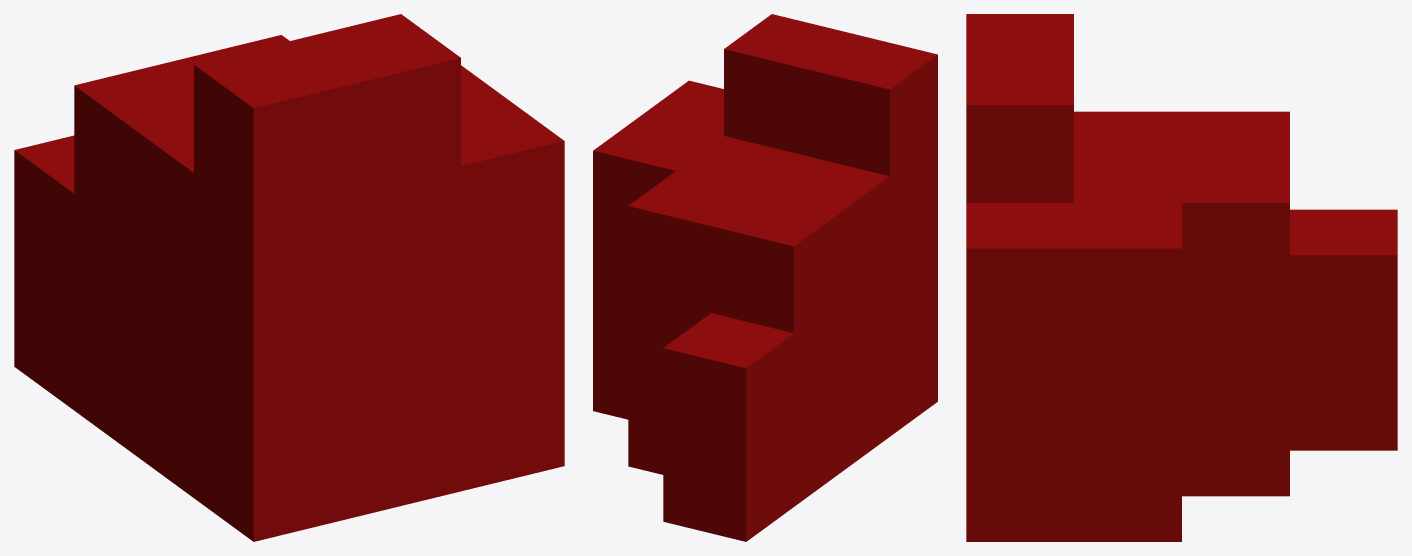
Rendered from Man_C.obj.
3 renders of one model, left to right at view 1: azimuth 30°, elevation 25°; view 2: azimuth 150°, elevation 25°; view 3: azimuth 270°, elevation 25°, orthographic. The views are drawn at different scales.
Bounding box in the file's own units: 0.3 × 0.4 × 0.4.
1 material, 1 textured.
